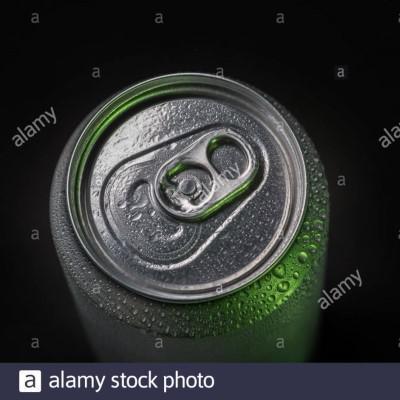beer: (50, 71, 332, 362)
